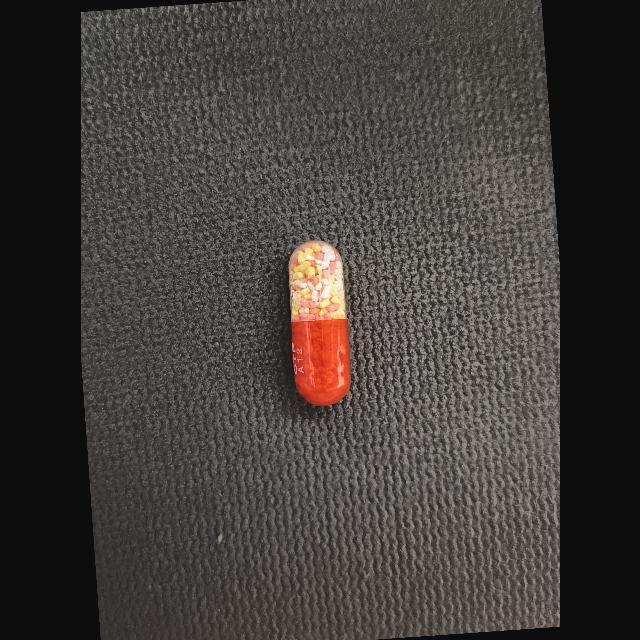Intact Capsule: (288, 241, 351, 405)
